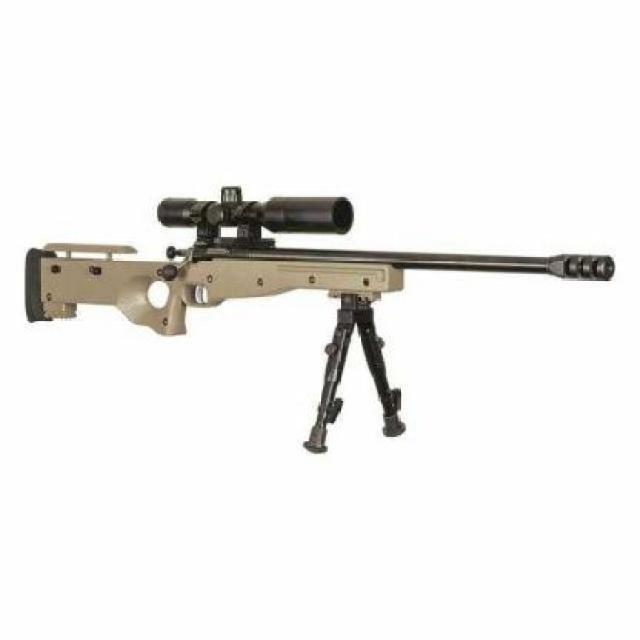weapon: (24, 182, 618, 352)
